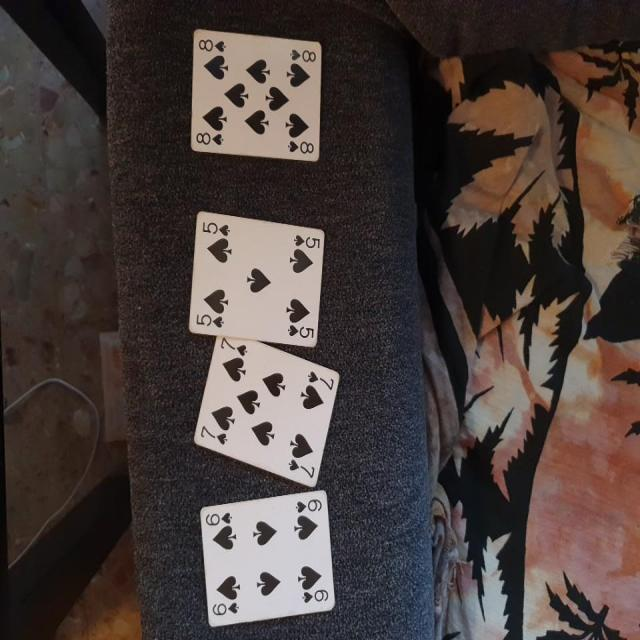5 Spades: (183, 203, 331, 351)
6 Spades: (197, 481, 338, 640)
7 Spades: (188, 334, 354, 497)
8 Spades: (184, 24, 325, 167)
